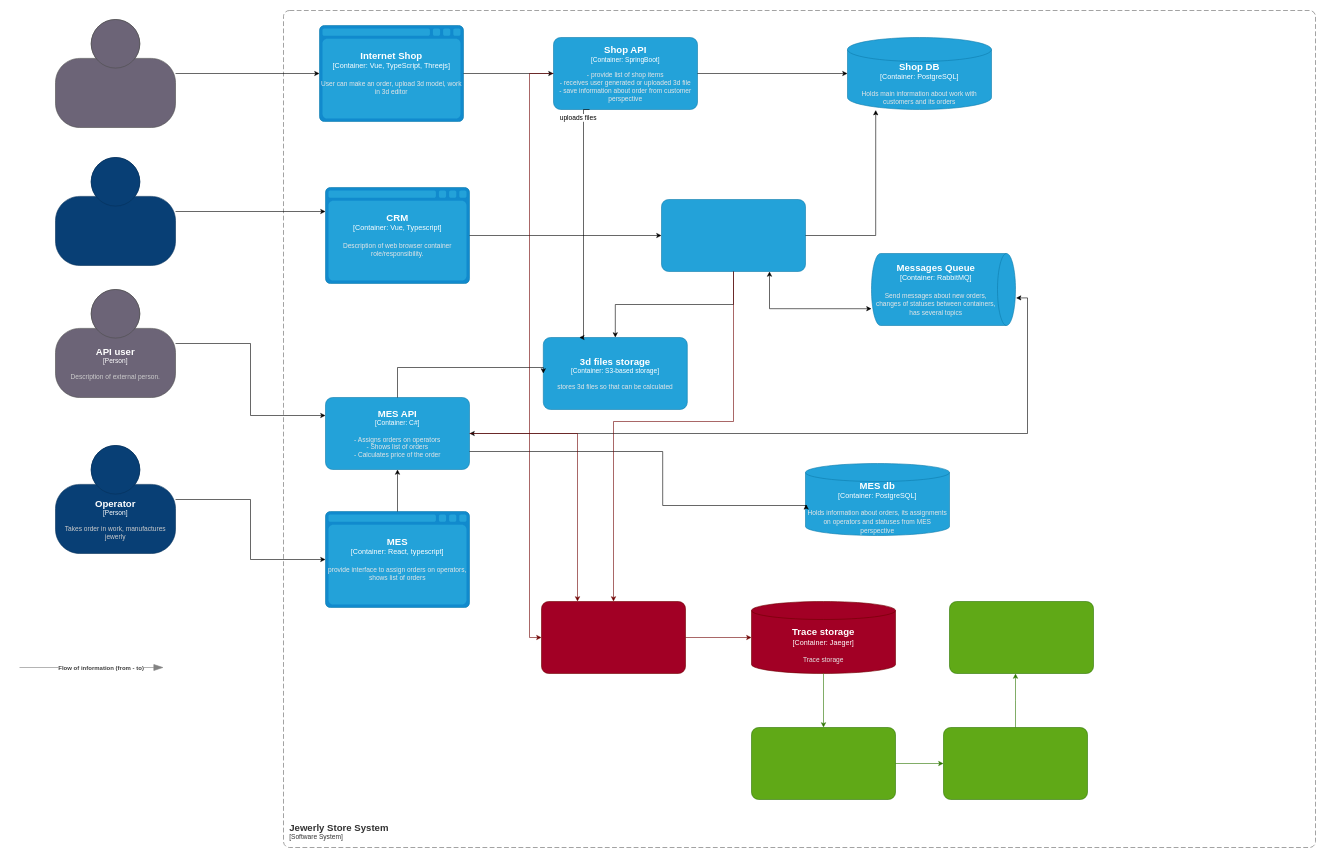
This 1326x858 diagram has some shape labels left out. Each missing label, with the centre of its shape:
CRM API [Container: SpringBoot] Description of container role/responsibility.: the point at 733,235
Customer [Person] Description of external person.: the point at 115,73
Grafana Dashboards [Container: ] Grafana: the point at 1021,637
OpenTelemetry Collector [Container: OTel Collector] OpenTelemetry: the point at 613,637
Prometheus [Container: ] Prometheus: the point at 1015,763
Seller [Person] Operates with order, confirms manufacturing for the user: the point at 115,211
Trace Analyzer / Order Flow Analyzer [Container: Trace Analyzer] Trace Analyzer: the point at 823,763
